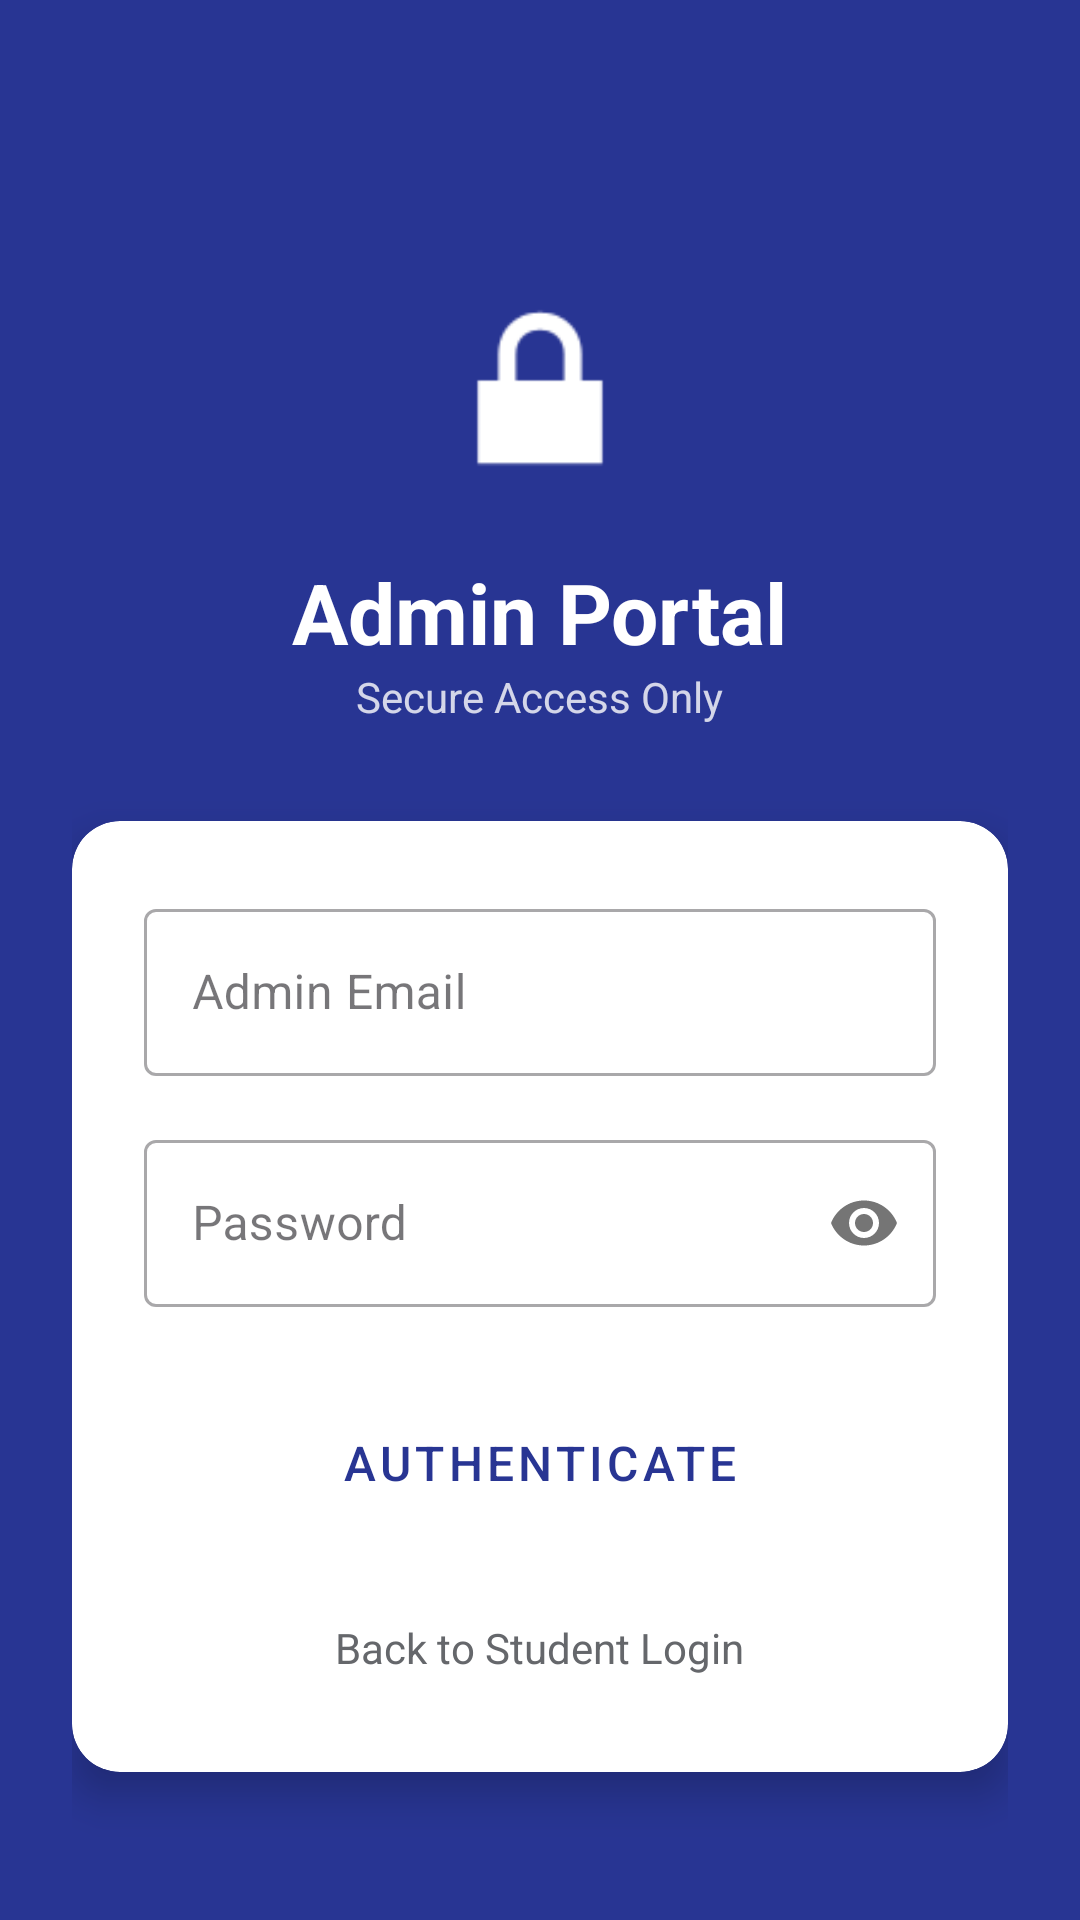

Named icons in this screenshot (1080px×1920px) and their centers, [x,y]:
lock: [540,388]
